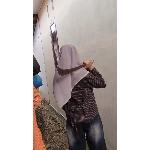Golok: (56, 60, 100, 78)
